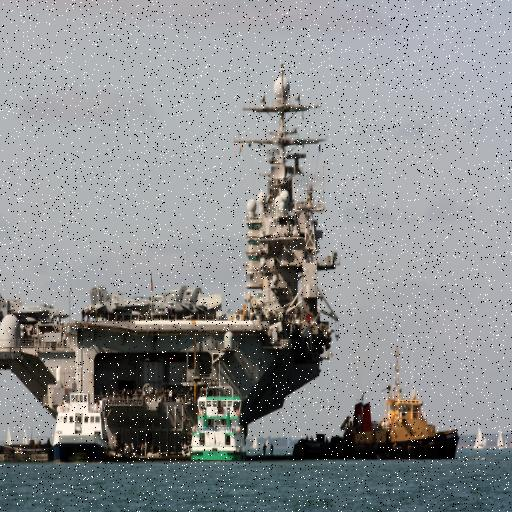Portanaves: (1, 56, 336, 443)
